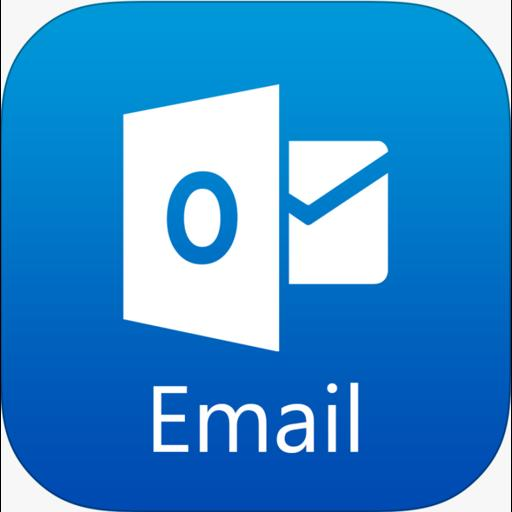Outlook: (1, 0, 511, 512)
